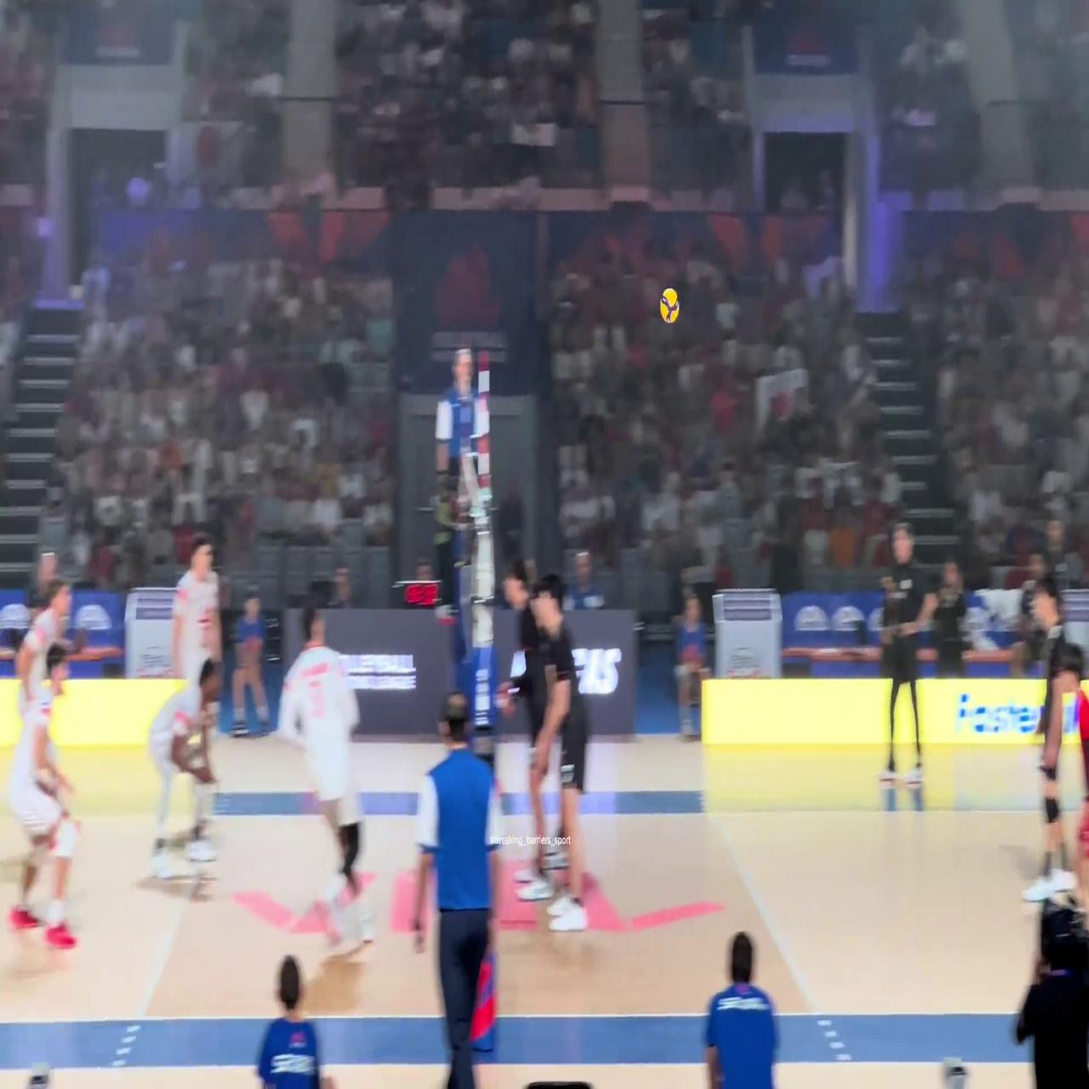ball: (660, 288, 679, 322)
